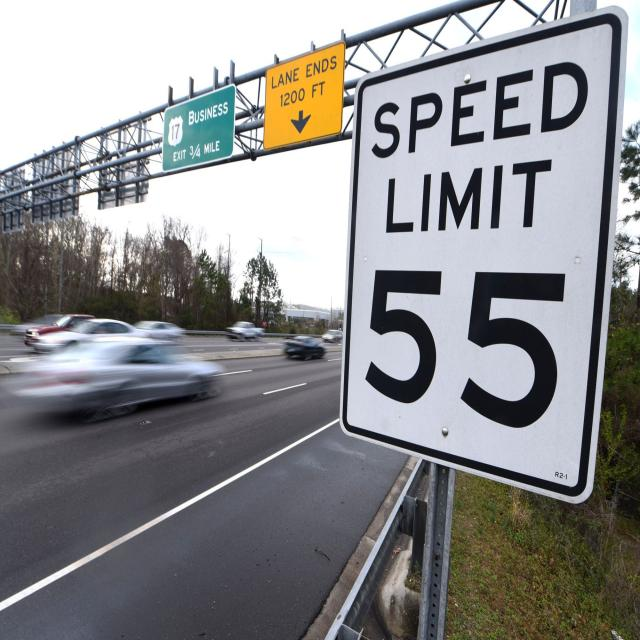speedLimit55: (334, 12, 626, 504)
